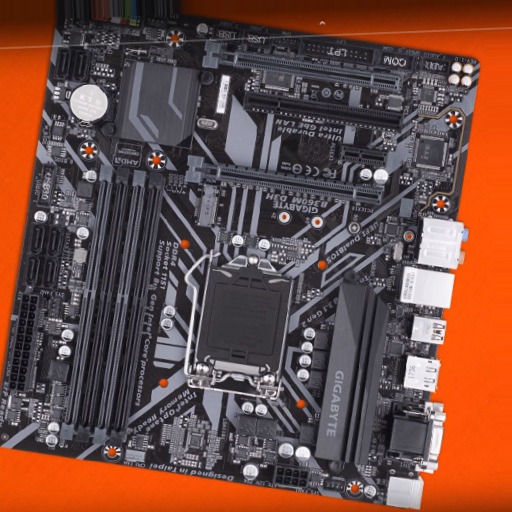CPU: (183, 225, 310, 403)
GPU: (200, 39, 402, 92), (185, 155, 384, 206), (242, 92, 404, 132)
MOTHERBOARD: (1, 2, 478, 506)
RAM: (59, 166, 166, 450)
SSD: (193, 184, 219, 226)
